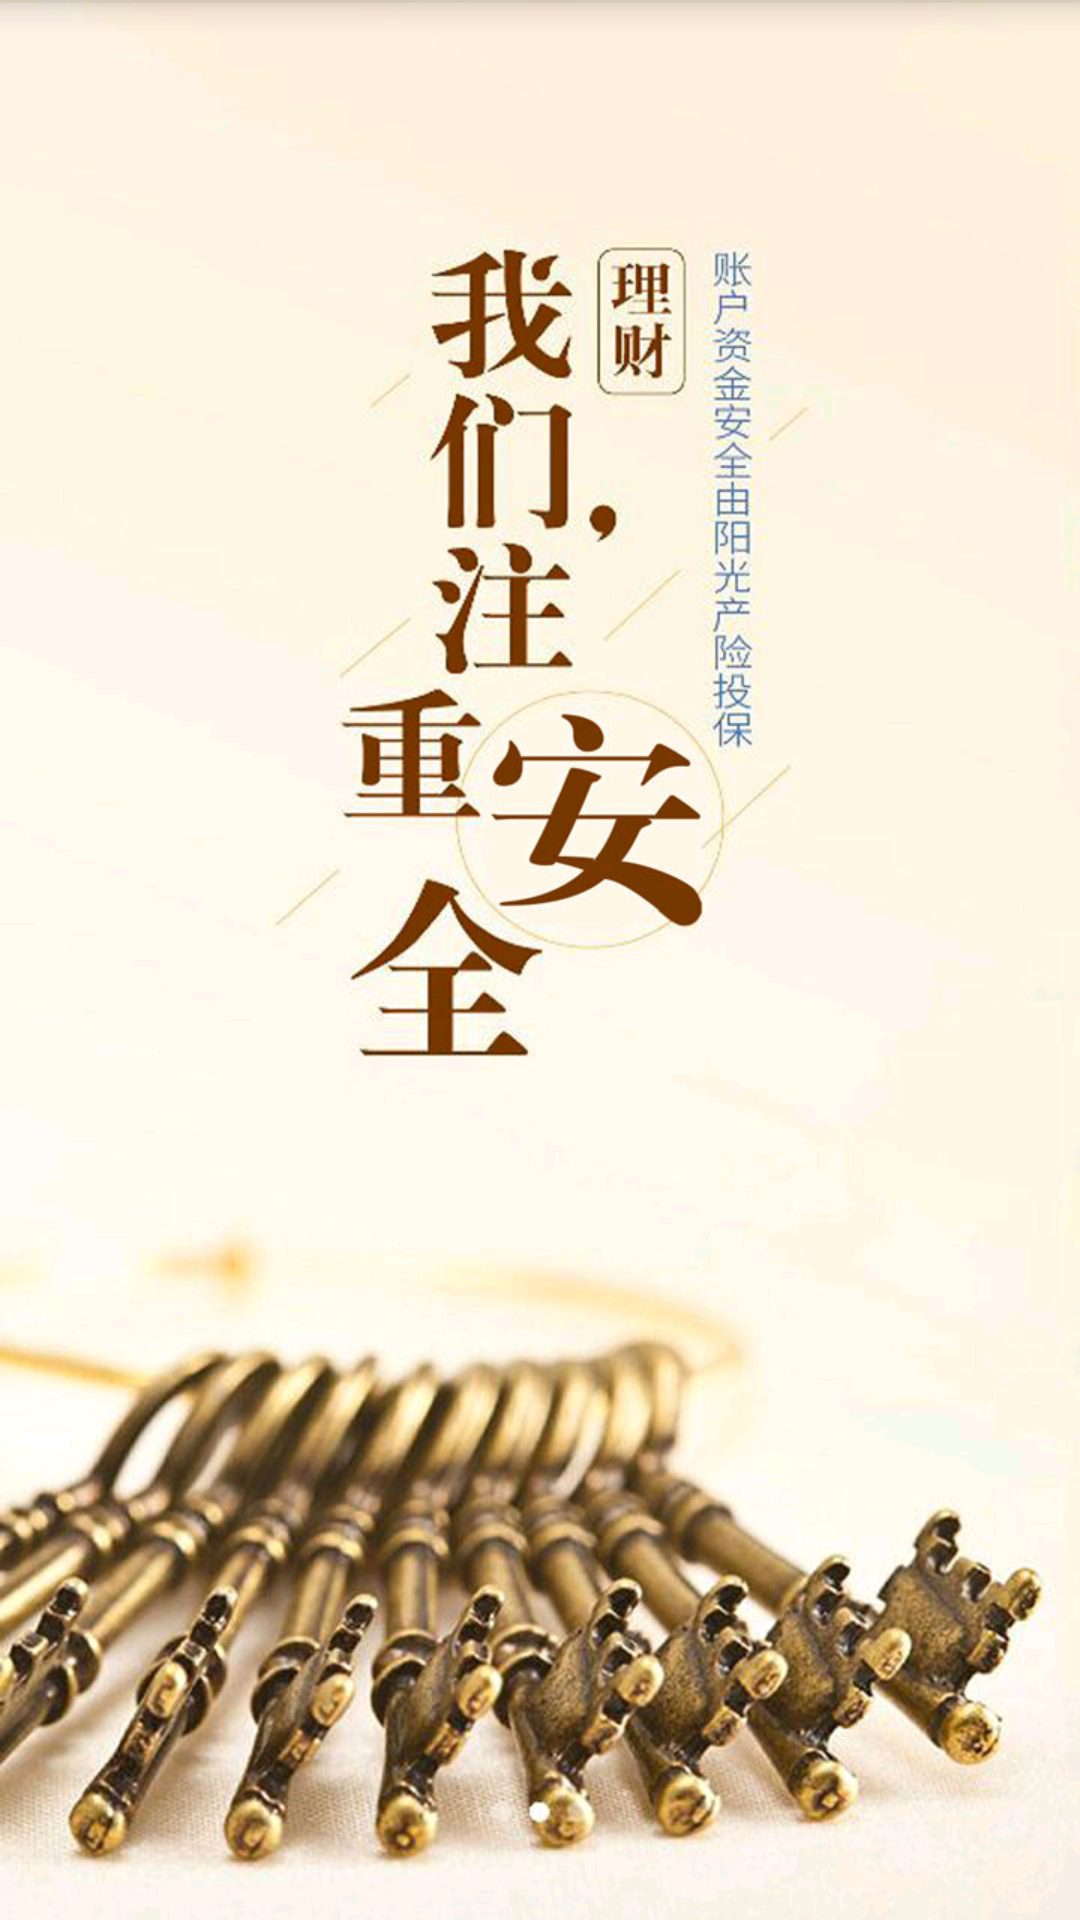imgview: (4, 3, 1080, 1916)
